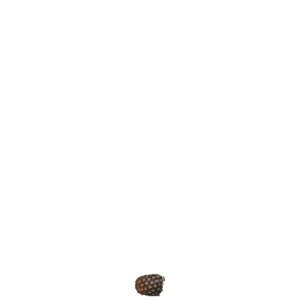abacaxi: (131, 273, 165, 297)
